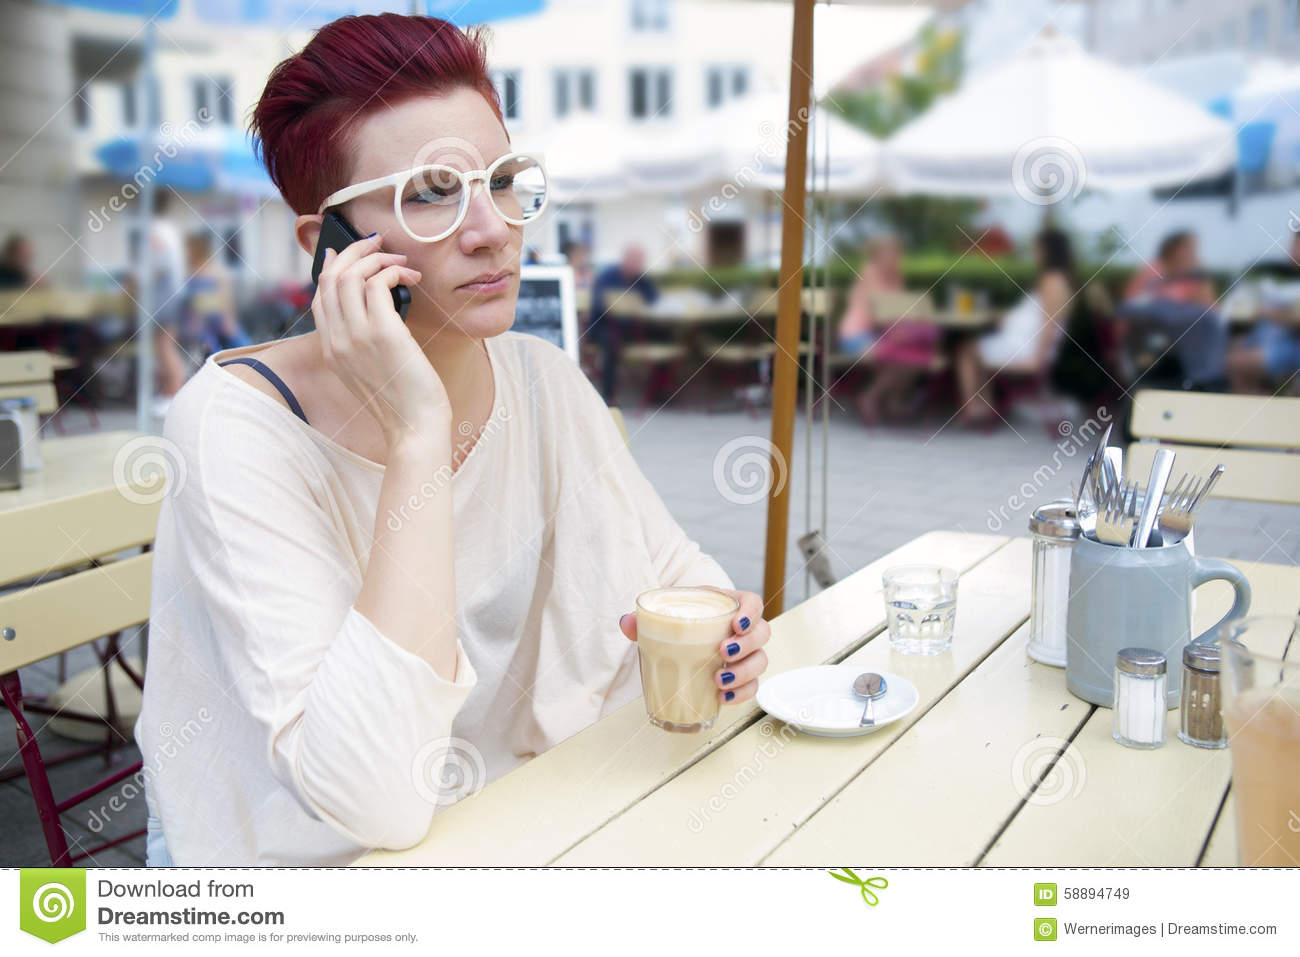phone: (312, 205, 413, 339)
talk: (310, 146, 527, 444)
